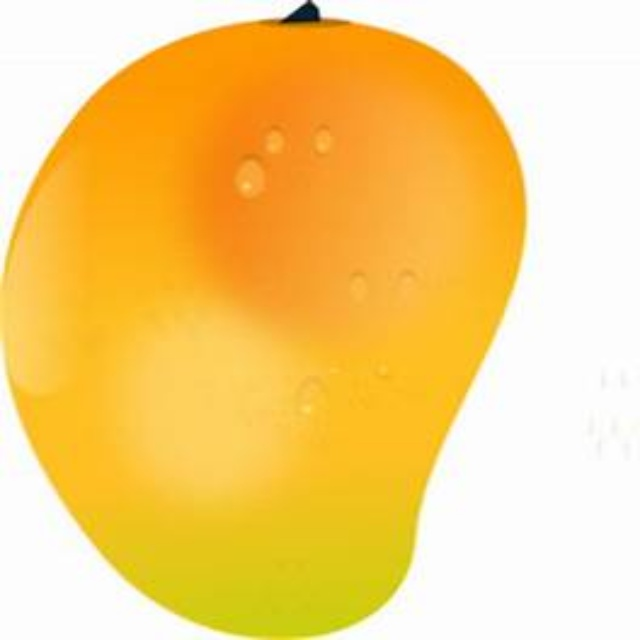mango: (5, 19, 530, 635)
